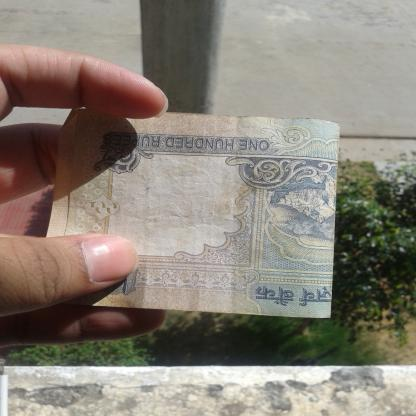Old100Back: (42, 106, 343, 319)
